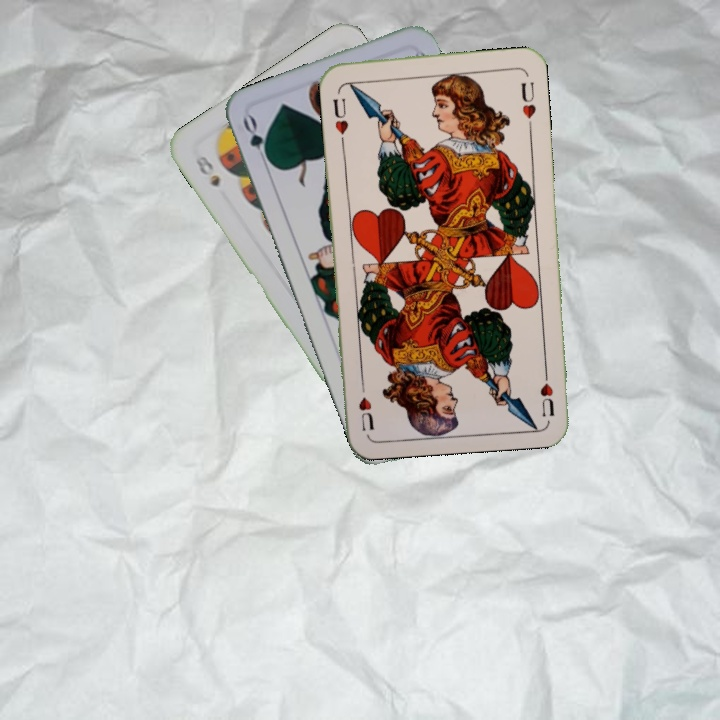GO: (238, 111, 275, 169)
HU: (536, 361, 557, 420), (329, 94, 351, 144)
S8: (191, 151, 223, 190)
